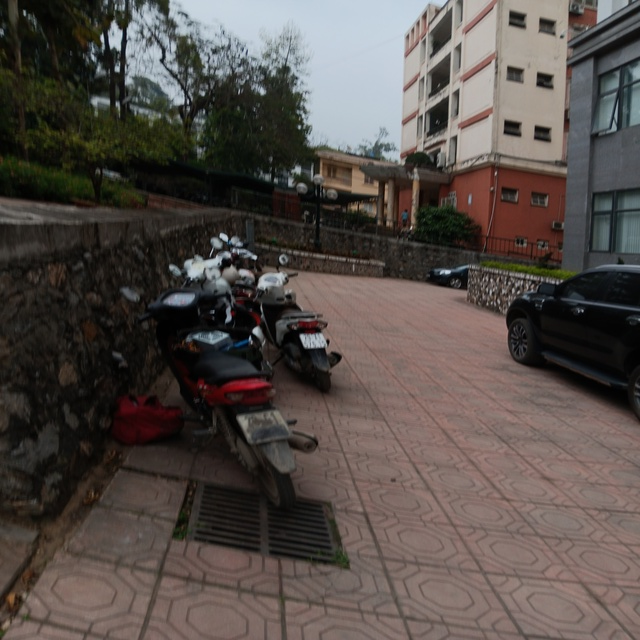cotden: (293, 170, 344, 253)
